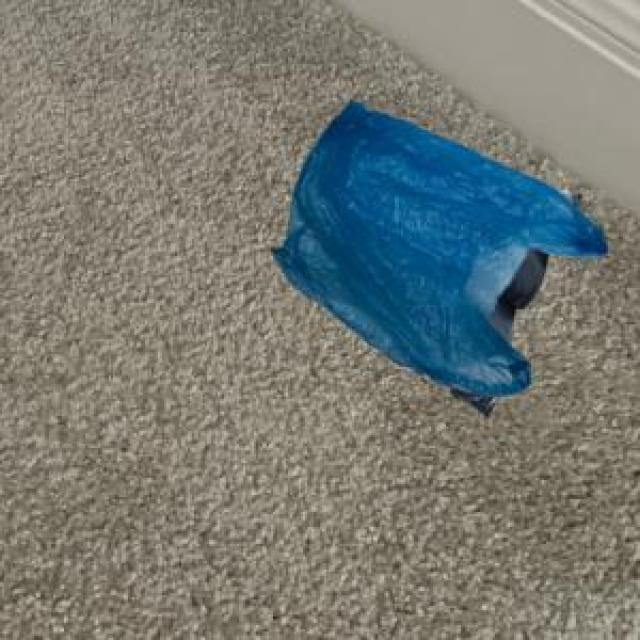miscellaneous trash: (386, 188, 577, 414)
